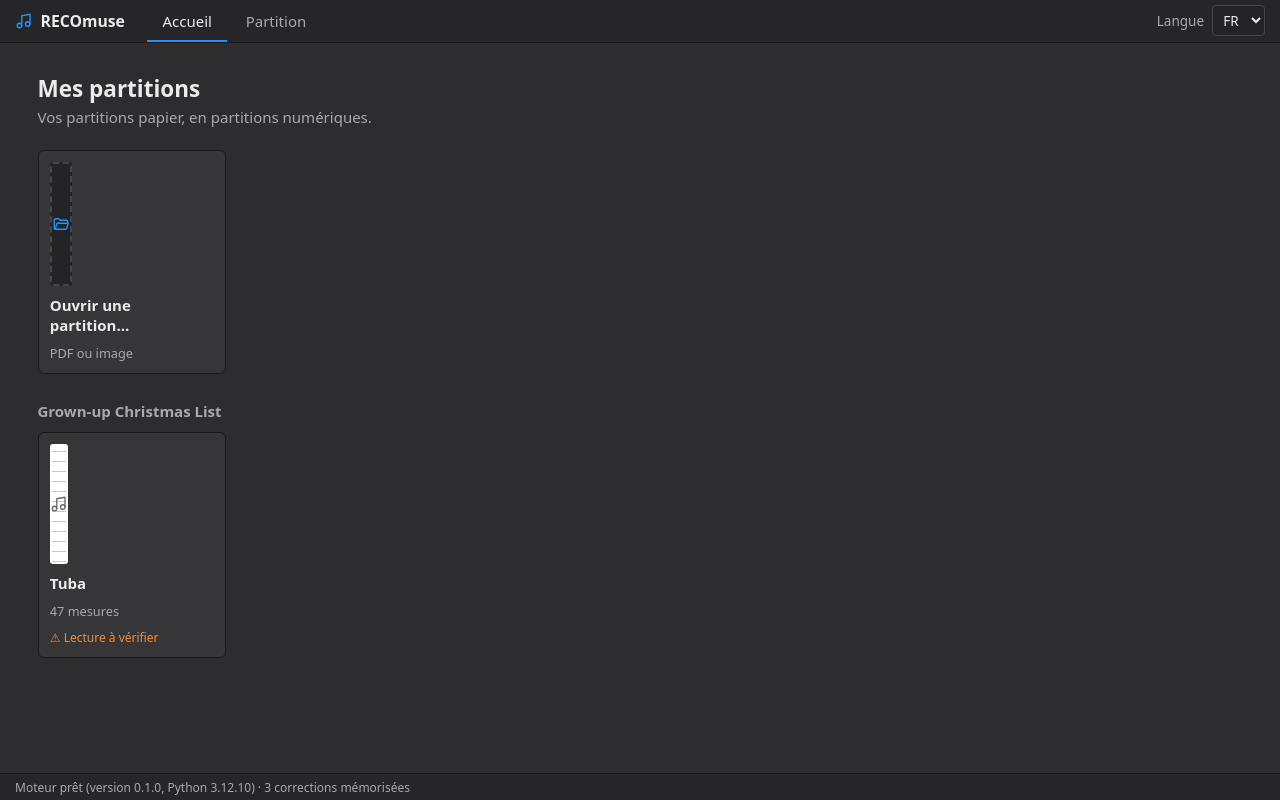
Test: ReadingWarnings › apparaît sur la carte de la partition et dans le panneau des questions
The width and height of the screenshot is (1280, 800).
expect the text "⚠ Lecture à vérifier" is shown: met, box [50, 629, 159, 646]
Click the button "Tuba 47 mesures ⚠ Lecture à vérifier". click: (132, 545)
box: [38, 432, 226, 658]
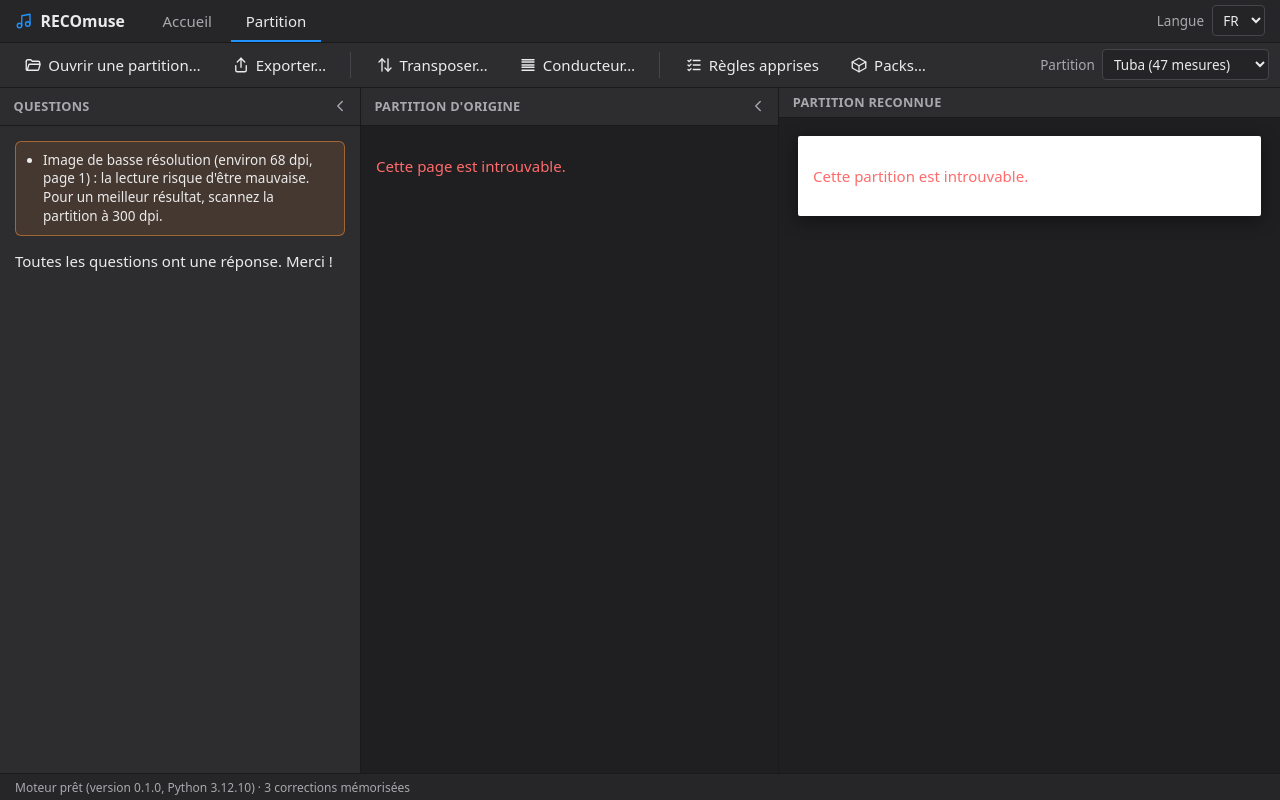
expect the list item "environ 68 dpi" is shown: met, box [43, 150, 313, 225]
